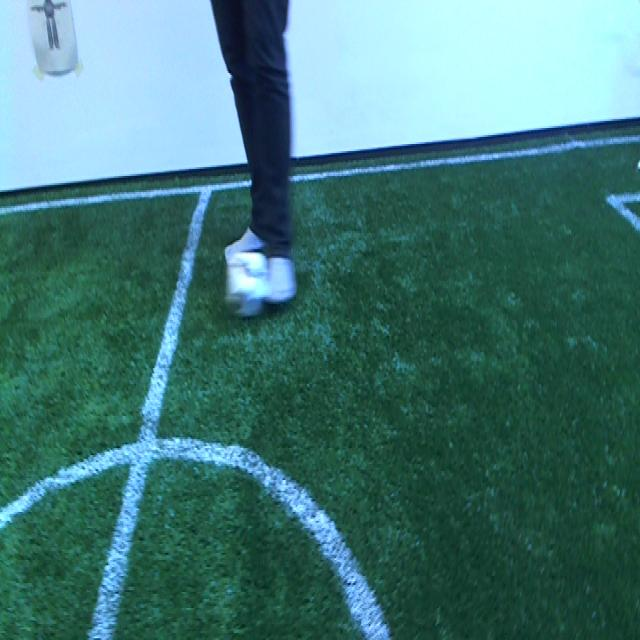ball: (227, 251, 266, 313)
